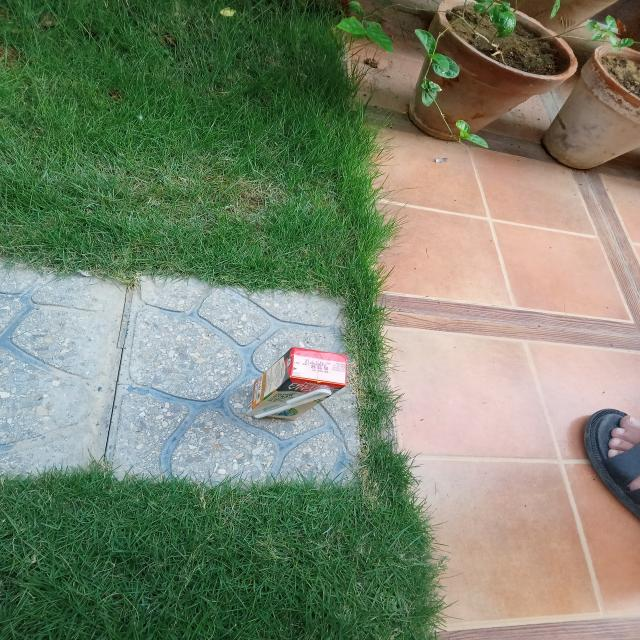Plastic: (240, 326, 359, 431)
